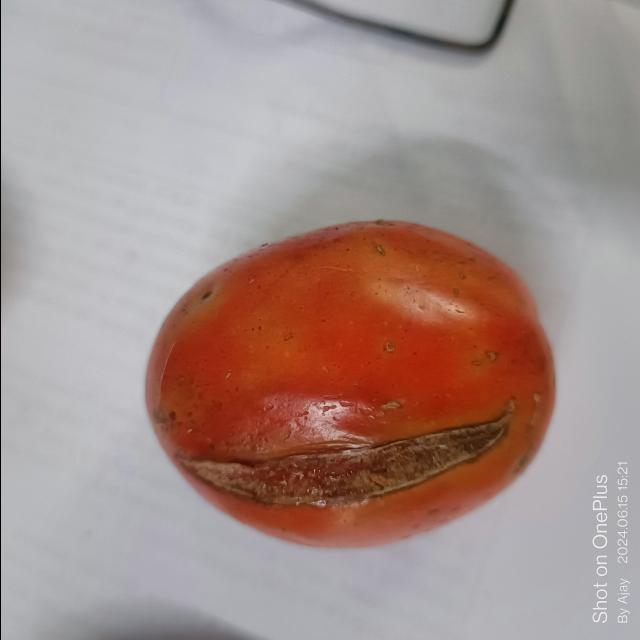tomato_cracking: (173, 406, 514, 514)
